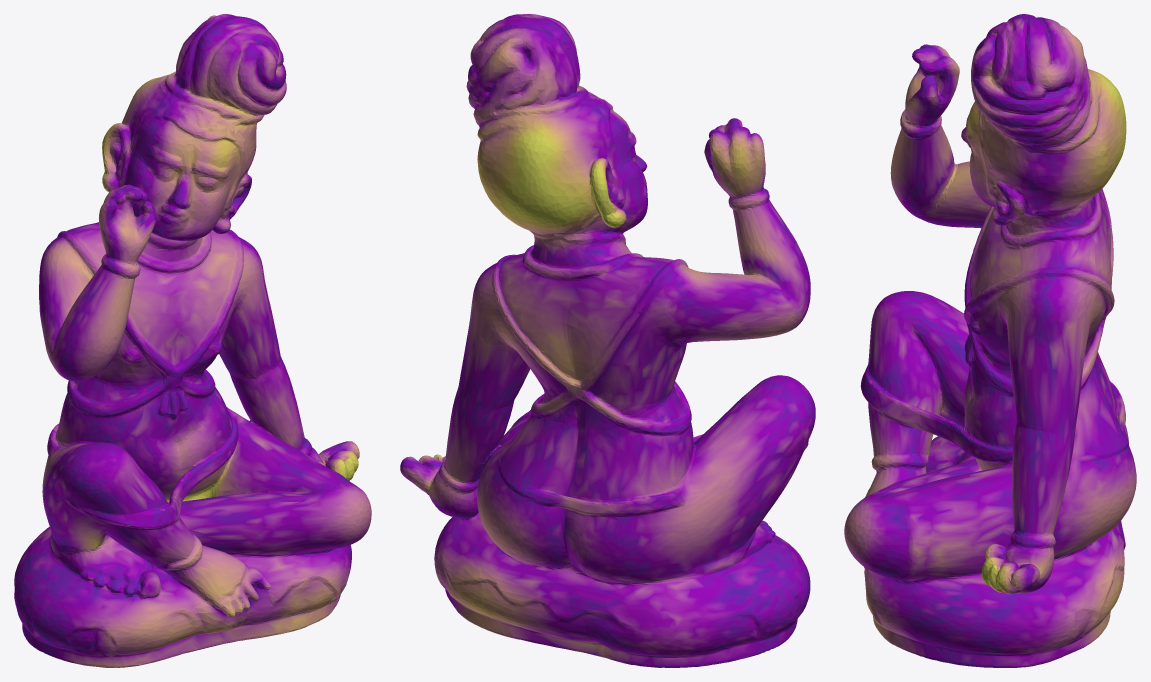
File: iter_9.glb
3 renders of one model, left to right at view 1: azimuth 30°, elevation 25°; view 2: azimuth 150°, elevation 25°; view 3: azimuth 270°, elevation 25°, orthographic. The views are drawn at different scales.
Visible parts, largest first — view 1: textured_mesh; view 2: textured_mesh; view 3: textured_mesh.
Boxes of the visible parts, x1,y1,x2,y2 form: textured_mesh: (14, 14, 371, 667); textured_mesh: (400, 14, 815, 667); textured_mesh: (844, 14, 1136, 667).
Size of the model in its own units: 1.32 by 1.99 by 0.8732.
